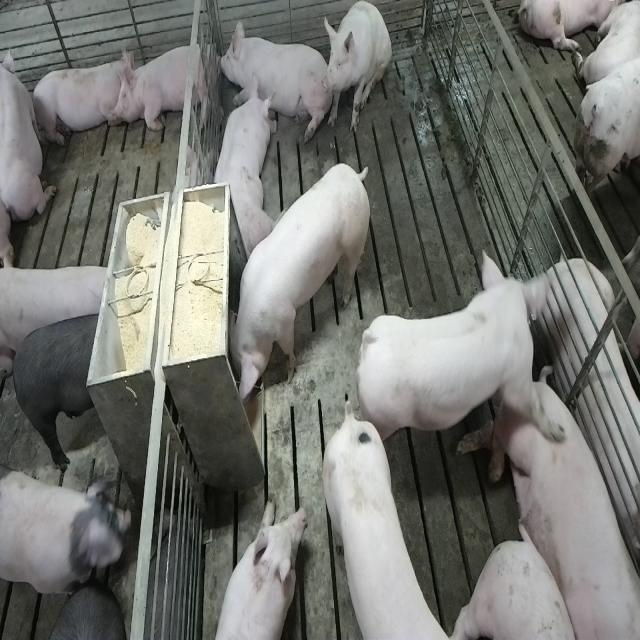Feeding: (220, 162, 368, 412)
Sitting: (322, 1, 392, 135)
Standing: (352, 250, 548, 485), (318, 413, 458, 640), (3, 460, 132, 610), (12, 306, 106, 468), (4, 268, 117, 354), (38, 586, 126, 640)
Sternal_lying: (206, 500, 304, 640), (219, 16, 325, 140), (210, 78, 274, 257), (2, 39, 56, 233), (117, 36, 215, 135), (30, 52, 130, 148)
